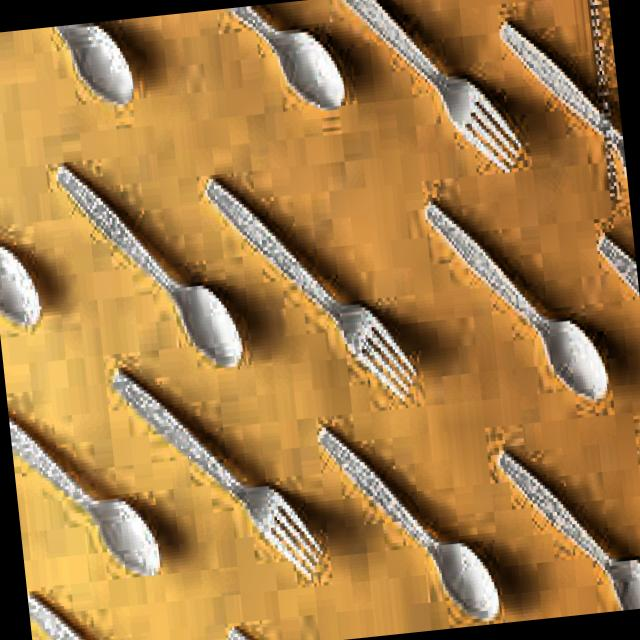plastic utensil: (207, 180, 414, 401), (116, 371, 322, 577), (59, 168, 241, 367), (426, 202, 606, 399), (318, 429, 499, 621), (345, 0, 520, 173), (9, 420, 159, 576), (497, 452, 640, 610), (233, 8, 344, 111)
